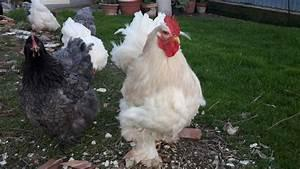hen: (109, 9, 206, 167)
